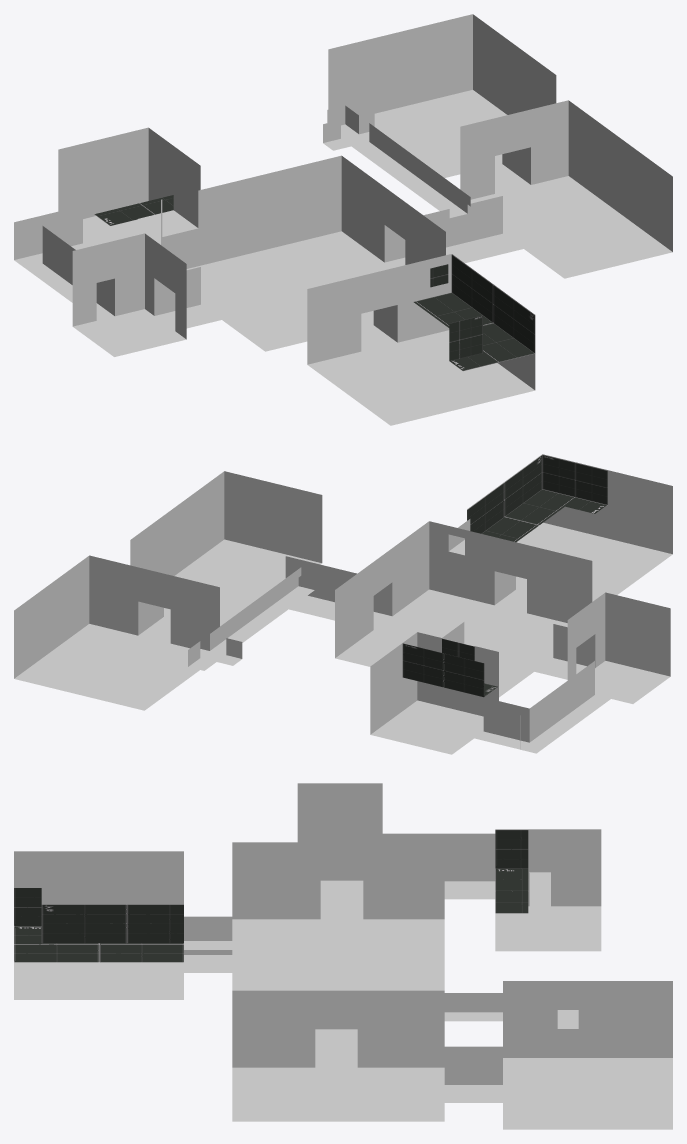
File: main_level.gltf
The picture shows the model from 3 angles, top to bottom: view 1: azimuth 30°, elevation 25°; view 2: azimuth 150°, elevation 25°; view 3: azimuth 270°, elevation 25°; orthographic projection. The views are drawn at different scales.
Visible parts, largest first — view 1: Main_Room2, hangover3, hangover22; view 2: Main_Room2, hangover3, hangover22; view 3: Main_Room2, hangover3, hangover22.
Part boxes in pixels (box(x1,y1,x2,y2)): Main_Room2: box(14, 14, 672, 425); hangover3: box(413, 255, 535, 371); hangover22: box(94, 195, 173, 225); Main_Room2: box(14, 454, 672, 754); hangover3: box(467, 455, 607, 542); hangover22: box(402, 638, 498, 697); Main_Room2: box(14, 783, 672, 1129); hangover3: box(14, 888, 183, 962); hangover22: box(495, 830, 528, 913).
Size of the model in its own units: 30.04 by 4 by 31.03.
2 materials, 1 textured.
